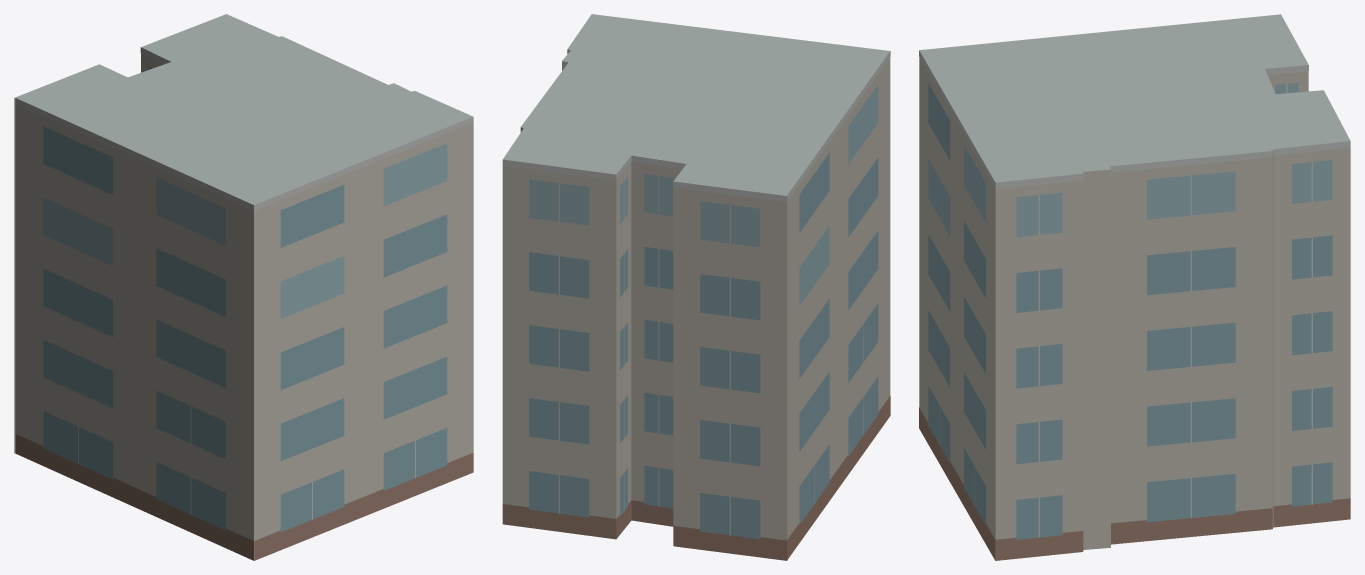
Rendered from survey-upis-32693125.glb.
3 views of the same model, side by side, from view 1: azimuth 30°, elevation 25°; view 2: azimuth 150°, elevation 25°; view 3: azimuth 270°, elevation 25° (orthographic). The views are drawn at different scales.
Parts seen in each view (by area): view 1: survey-upis-32693125.tmp; view 2: survey-upis-32693125.tmp; view 3: survey-upis-32693125.tmp.
Part boxes in pixels (bbox=[...]): survey-upis-32693125.tmp: bbox=[14, 14, 473, 560]; survey-upis-32693125.tmp: bbox=[502, 14, 890, 560]; survey-upis-32693125.tmp: bbox=[919, 14, 1350, 560].
Size of the model in its own units: 13.88 by 14.5 by 15.
